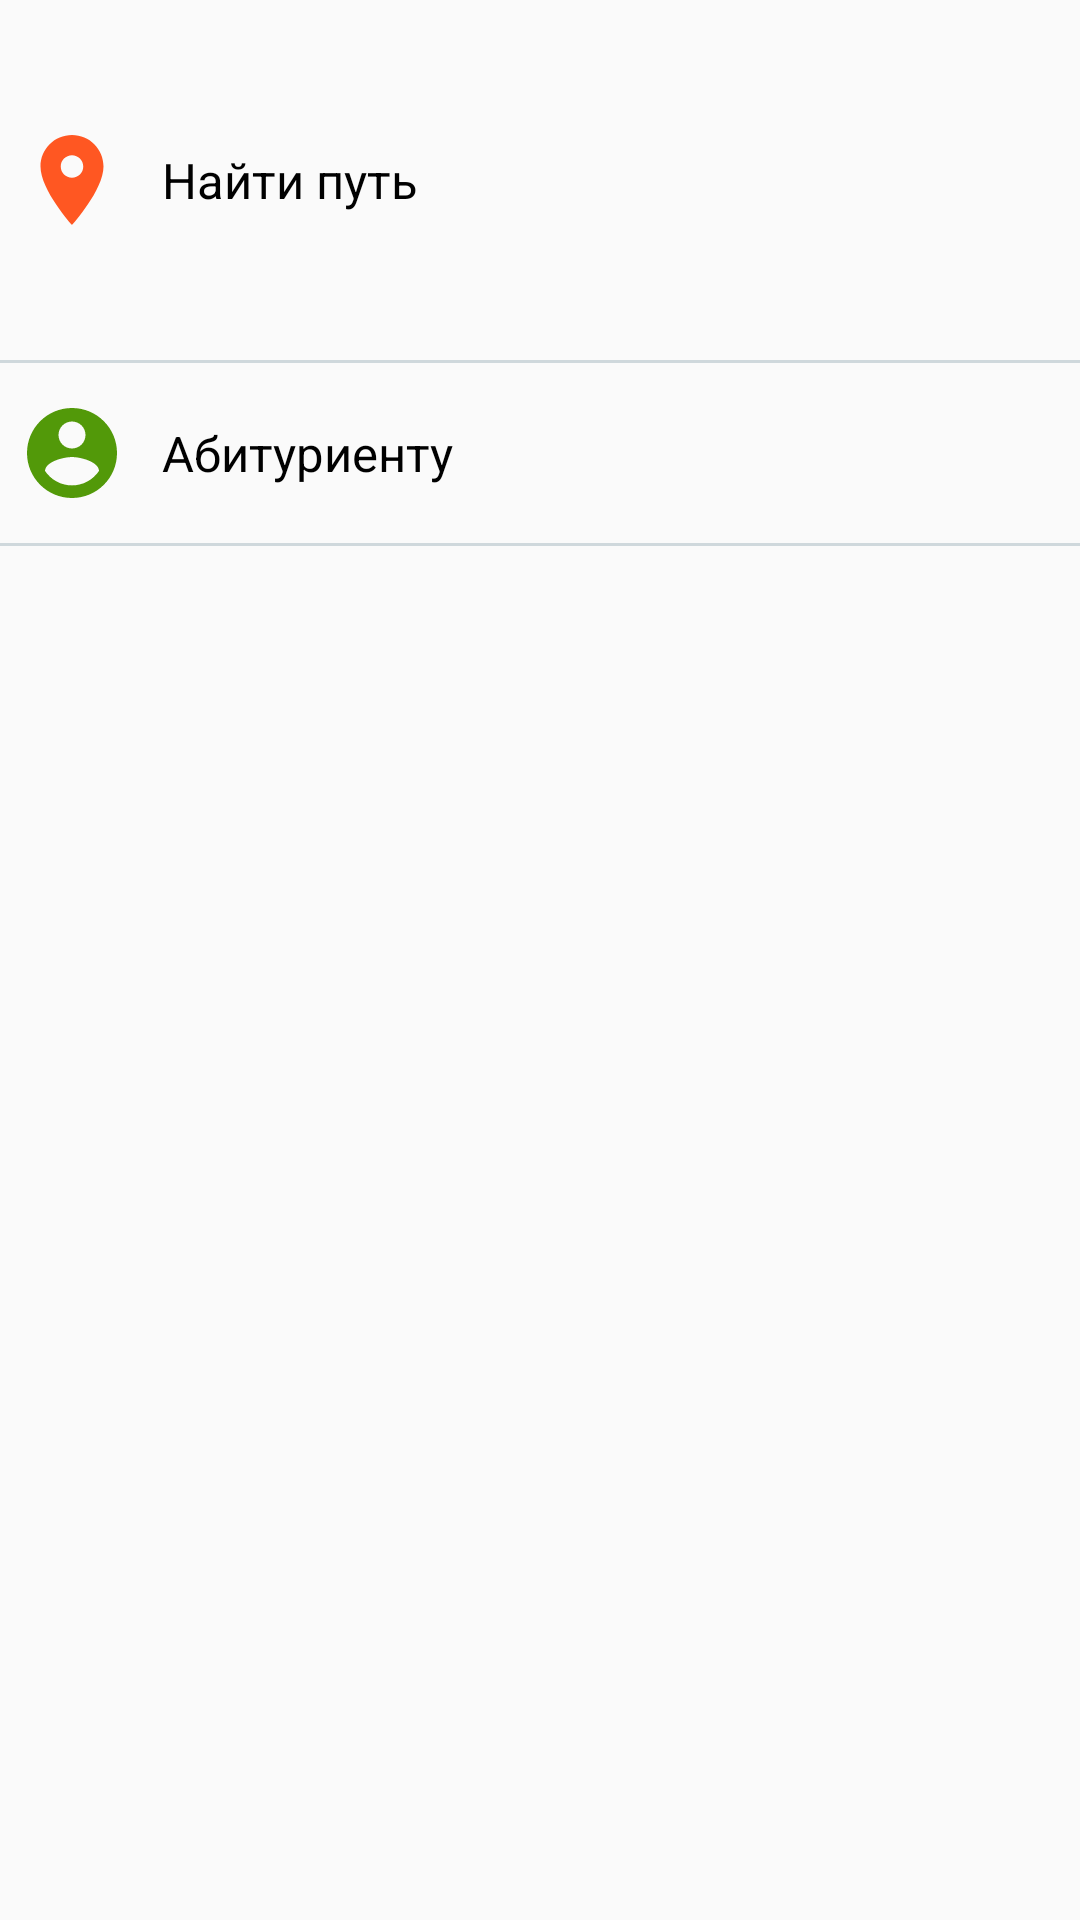

Screen size 1080px×1920px. Icon name, then its center in pixels as (x=x, y=y):
abiturient: (x=72, y=453)
place: (x=72, y=180)
